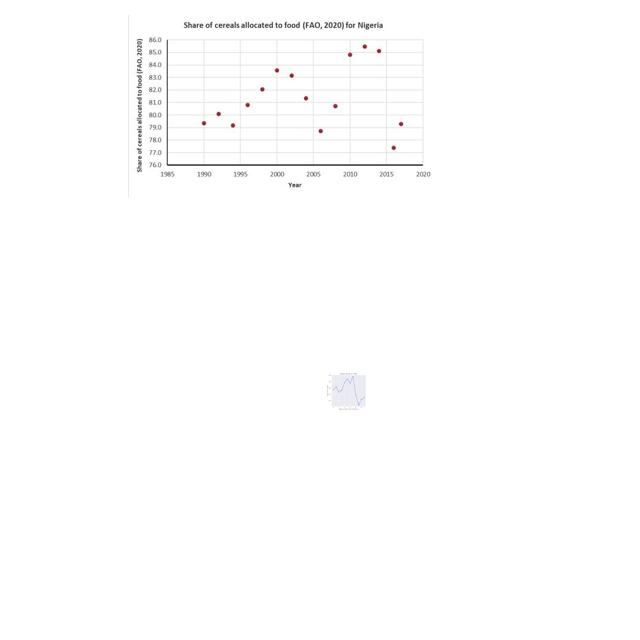Graph: (128, 15, 438, 198), (318, 370, 378, 411)
